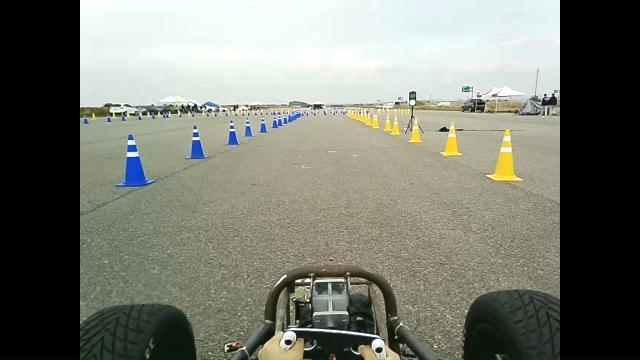blue cone: (114, 134, 156, 188), (185, 124, 209, 160), (225, 120, 240, 146), (243, 116, 253, 137), (258, 118, 268, 132), (271, 118, 278, 128), (277, 118, 283, 127)
yellow cone: (486, 128, 524, 182), (440, 121, 463, 156), (408, 117, 423, 143), (390, 115, 400, 135), (383, 112, 392, 132), (372, 115, 381, 129), (364, 115, 371, 125)
